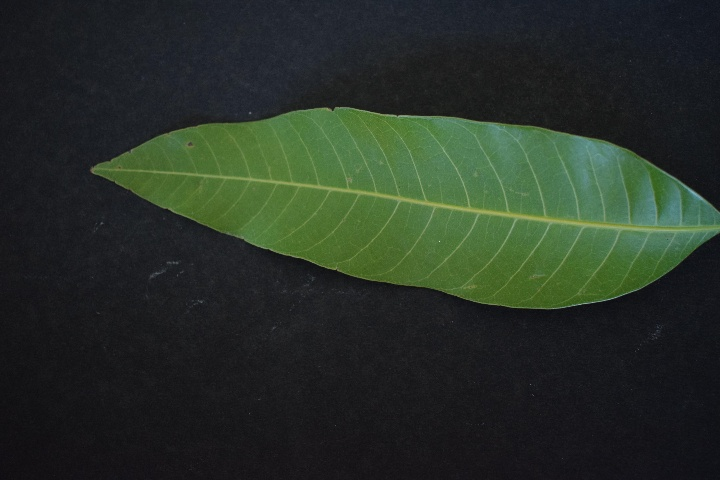healthy: (92, 110, 693, 314)
